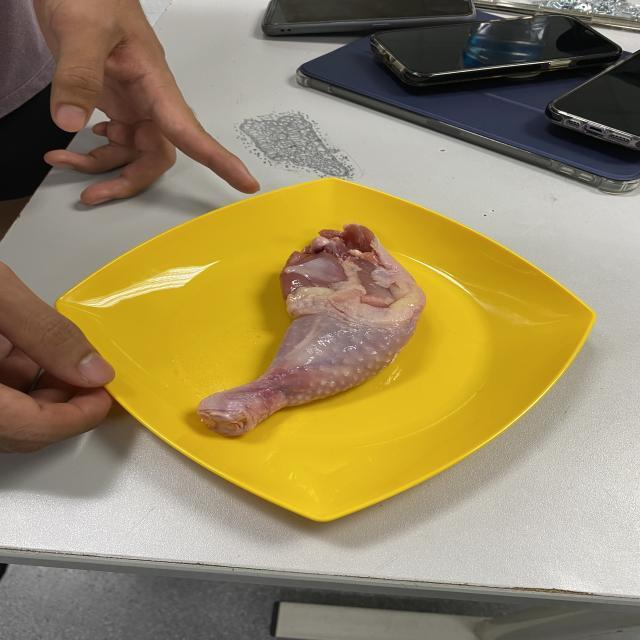quater: (220, 204, 419, 440)
